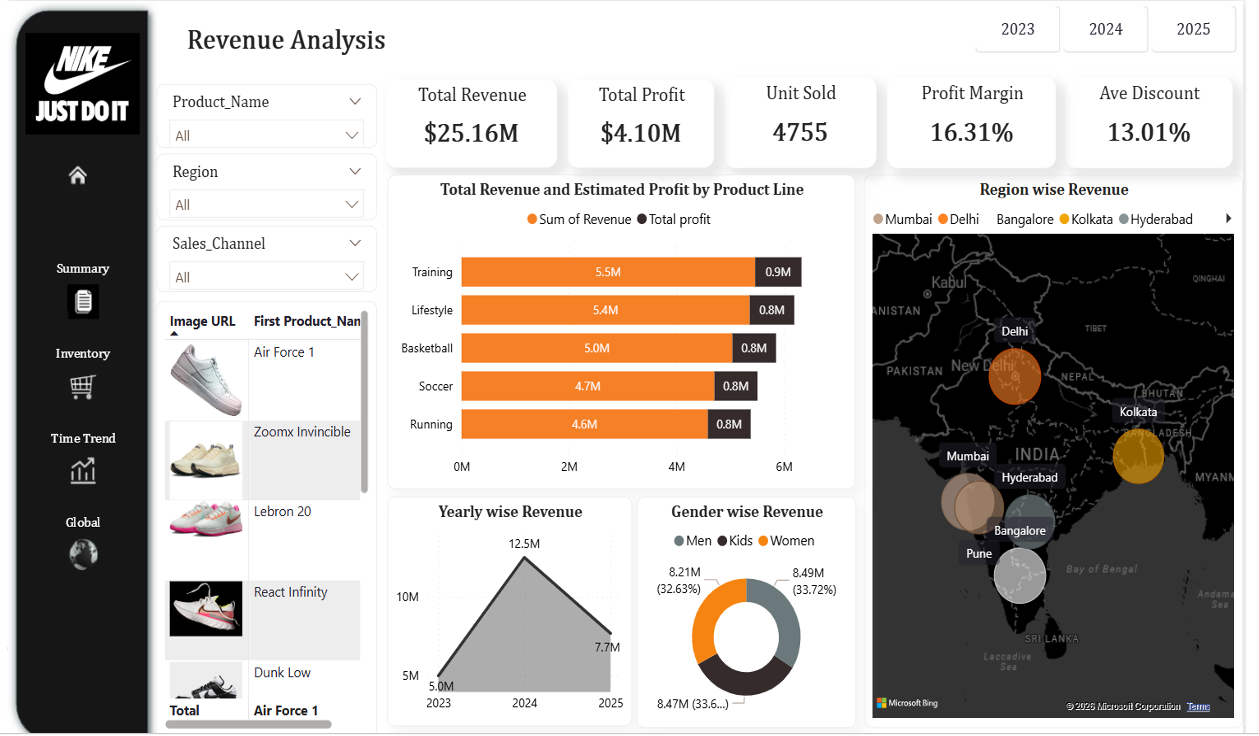

The page's visual inventory and layout, read from the dashboard file:
{"tool":"powerbi","page":{"name":"Revenue Analysis","canvas":[1280,720],"ordinal":1},"visuals":[{"type":"advancedSlicerVisual","fields":{"Values":["nike_sales_cleaned_safe (5).Order_Date.Variation.Date Hierarchy.Year"]},"box":[997.8,0,282.2,55.2],"z":0},{"type":"card","title":"Total Revenue","fields":{"Values":["nike_sales_cleaned_safe (5).Total Revenue"]},"box":[392.8,75.6,176.8,84.9],"z":1000},{"type":"map","title":"Region wise Revenue","fields":{"Category":["nike_sales_cleaned_safe (5).Region"],"Series":["nike_sales_cleaned_safe (5).Region"],"Size":["Sum(nike_sales_cleaned_safe (5).Revenue)"]},"box":[887.4,167.5,392.6,531.7],"z":2000},{"type":"textbox","box":[146,0,286,80],"z":3000},{"type":"barChart","title":"Total Revenue and Estimated Profit by Product Line","fields":{"Category":["nike_sales_cleaned_safe (5).Product_Line"],"Y":["Sum(nike_sales_cleaned_safe (5).Revenue)","nike_sales_cleaned_safe (5).Total profit"]},"box":[393.8,167.5,484.6,302.5],"z":3000,"group":"g1"},{"type":"card","title":"Unit Sold","fields":{"Values":["nike_sales_cleaned_safe (5).Total Unit Sold"]},"box":[743,73.2,157.9,87.3],"z":4000},{"type":"lineChart","title":"Yearly wise Revenue","fields":{"Y":["Sum(nike_sales_cleaned_safe (5).Revenue)"],"Category":["nike_sales_cleaned_safe (5).Order_Date.Variation.Date Hierarchy.Year"]},"box":[394.2,477.4,253.4,221],"z":4000,"group":"g1"},{"type":"group","id":"g1","title":"Group 1","box":[393.8,167.5,485.6,532.1],"z":5000},{"type":"shape","box":[0,0,154.9,719.2],"z":6000},{"type":"card","title":"Total Profit","fields":{"Values":["Sum(nike_sales_cleaned_safe (5).Profit)"]},"box":[580.7,75.6,151.2,84.9],"z":7000},{"type":"actionButton","box":[58.8,153.7,33.6,28.8],"z":8000},{"type":"donutChart","title":"Gender wise Revenue","fields":{"Category":["nike_sales_cleaned_safe (5).Gender_Category"],"Y":["nike_sales_cleaned_safe (5).Total Revenue"]},"box":[652.4,477.4,227,222.2],"z":8000,"group":"g1"},{"type":"card","title":"Ave Discount","fields":{"Values":["nike_sales_cleaned_safe (5).Ave Discount %"]},"box":[1095.4,73.2,173.4,87.3],"z":9000},{"type":"actionButton","title":"Summary","box":[24,249.8,108.1,60],"z":10000},{"type":"card","title":"Profit Margin ","fields":{"Values":["nike_sales_cleaned_safe (5).Profit Mar %"]},"box":[911.9,73.2,174.5,87.3],"z":11000},{"type":"actionButton","title":"Inventory","box":[24,331.4,108.1,60],"z":12000},{"type":"slicer","fields":{"Values":["nike_sales_cleaned_safe (5).Product_Name"]},"box":[154.9,80.2,228.8,61.4],"z":13000,"group":"g2"},{"type":"actionButton","title":"Time Trend","box":[24,414.3,108.1,56.4],"z":13000},{"type":"actionButton","title":"Global","box":[24,494.7,108.1,57.6],"z":14000},{"type":"slicer","fields":{"Values":["nike_sales_cleaned_safe (5).Region"]},"box":[154.9,146.9,228.8,64],"z":15000,"group":"g2"},{"type":"pivotTable","title":"Product Info","fields":{"Rows":["nike_sales_cleaned_safe (5).Image URL"],"Values":["Min(nike_sales_cleaned_safe (5).Product_Name)"]},"box":[154.7,288.4,229.1,420.9],"z":15000},{"type":"image","box":[14.4,31.2,126.1,97.3],"z":16000},{"type":"group","id":"g2","title":"Group 2","box":[154.7,80.2,229.1,200],"z":17000},{"type":"slicer","fields":{"Values":["nike_sales_cleaned_safe (5).Sales_Channel"]},"box":[154.7,216.2,228.9,64],"z":18001,"group":"g2"}]}

Visuals, with their boxes on the page's 1280x720 design canvas (x1, y1, x2, y2). These are canvas units, not pixel positions in the 1259x736 screenshot, which may show the page scaled, cropped or inside an application window:
advancedSlicerVisual - nike_sales_cleaned_safe (5).Order_Date.Variation.Date Hierarchy.Year: select_region(998, 0, 1280, 55)
"Total Revenue" card: select_region(393, 76, 570, 160)
"Region wise Revenue" map: select_region(887, 168, 1280, 699)
textbox: select_region(146, 0, 432, 80)
"Total Revenue and Estimated Profit by Product Line" barChart: select_region(394, 168, 878, 470)
"Unit Sold" card: select_region(743, 73, 901, 160)
"Yearly wise Revenue" lineChart: select_region(394, 477, 648, 698)
"Group 1" group: select_region(394, 168, 879, 700)
shape: select_region(0, 0, 155, 719)
"Total Profit" card: select_region(581, 76, 732, 160)
actionButton: select_region(59, 154, 92, 182)
"Gender wise Revenue" donutChart: select_region(652, 477, 879, 700)
"Ave Discount" card: select_region(1095, 73, 1269, 160)
"Summary" actionButton: select_region(24, 250, 132, 310)
"Profit Margin " card: select_region(912, 73, 1086, 160)
"Inventory" actionButton: select_region(24, 331, 132, 391)
slicer - nike_sales_cleaned_safe (5).Product_Name: select_region(155, 80, 384, 142)
"Time Trend" actionButton: select_region(24, 414, 132, 471)
"Global" actionButton: select_region(24, 495, 132, 552)
slicer - nike_sales_cleaned_safe (5).Region: select_region(155, 147, 384, 211)
"Product Info" pivotTable: select_region(155, 288, 384, 709)
image: select_region(14, 31, 140, 128)
"Group 2" group: select_region(155, 80, 384, 280)
slicer - nike_sales_cleaned_safe (5).Sales_Channel: select_region(155, 216, 384, 280)
